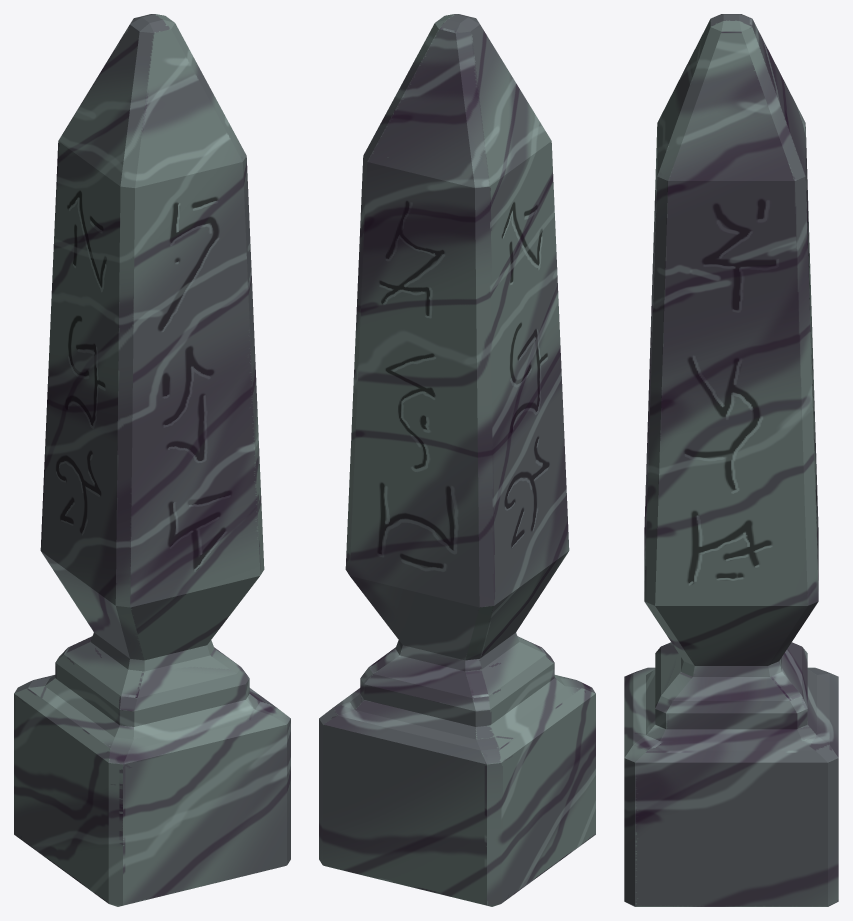
File: obelisk.fbx
3 views of the same model, side by side, from view 1: azimuth 30°, elevation 25°; view 2: azimuth 150°, elevation 25°; view 3: azimuth 270°, elevation 25° (orthographic).
Visible parts, largest first — view 1: Obelisk; view 2: Obelisk; view 3: Obelisk.
Part boxes in pixels (x1,y1,x2,y2): Obelisk: (14, 14, 290, 906); Obelisk: (319, 14, 595, 906); Obelisk: (624, 14, 838, 906).
Bounding box in the file's own units: 7260 × 31741 × 7260.
